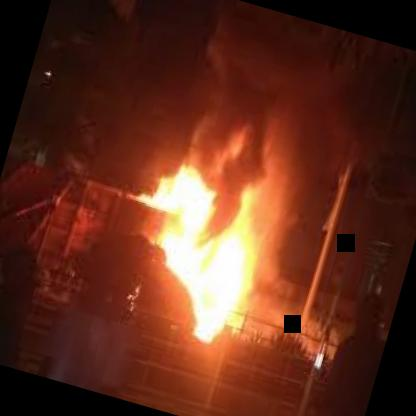fire: (78, 57, 350, 401)
